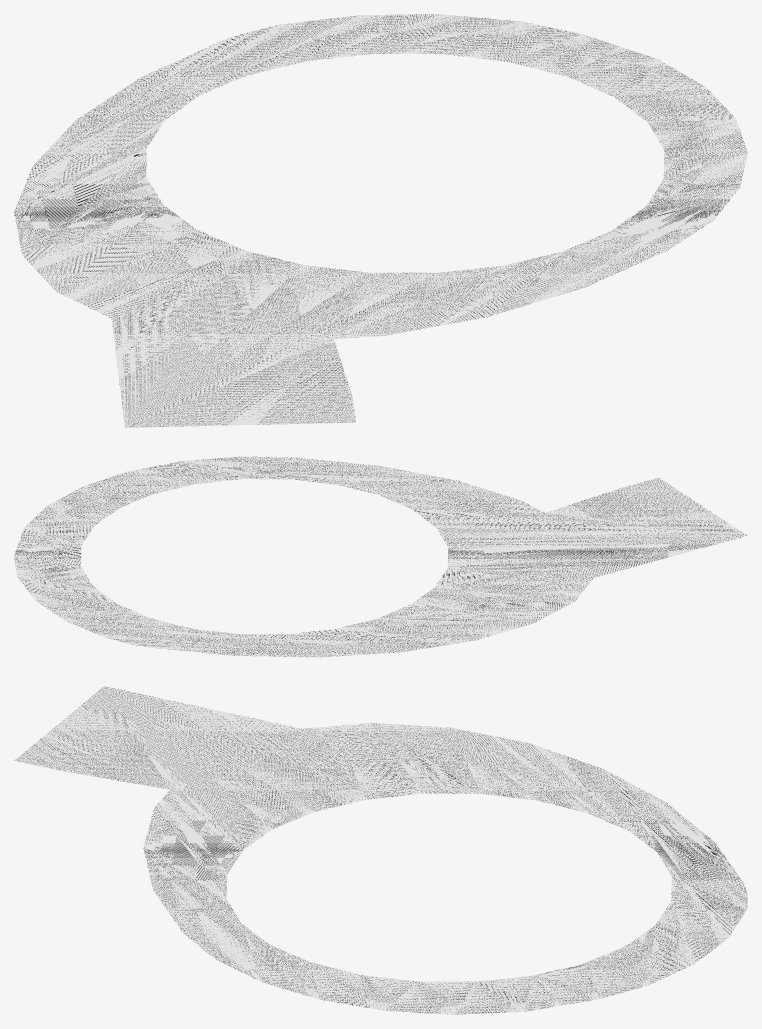
Rendered from original-23.obj.
3 renders of one model, top to bottom at view 1: azimuth 30°, elevation 25°; view 2: azimuth 150°, elevation 25°; view 3: azimuth 270°, elevation 25°, orthographic. The views are drawn at different scales.
Parts seen in each view (by area): view 1: #ID146; view 2: #ID146; view 3: #ID146.
Boxes of the visible parts, x1,y1,x2,y2 form: #ID146: [14, 14, 747, 427]; #ID146: [14, 456, 747, 657]; #ID146: [14, 686, 747, 1014].
Size of the model in its own units: 0.5617 by 0 by 0.5297.
